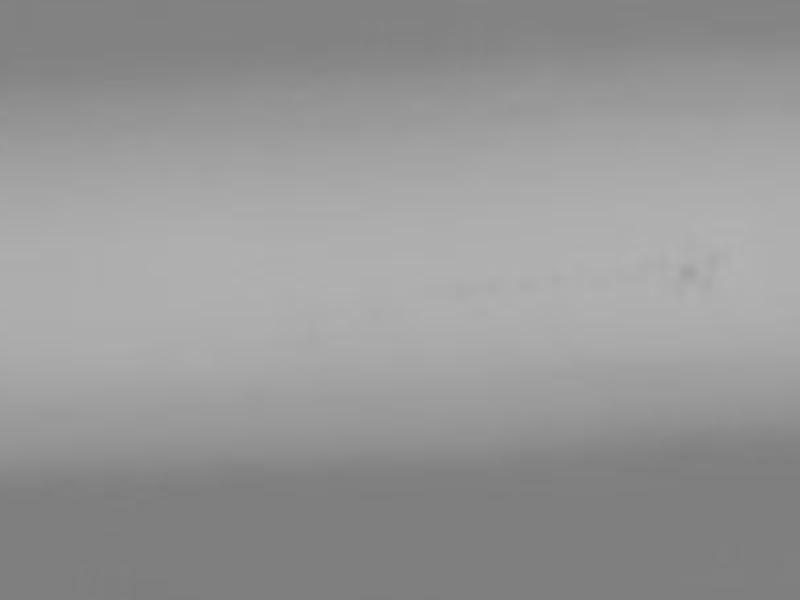defect: (698, 273, 718, 292), (517, 272, 536, 291), (680, 263, 697, 280), (704, 254, 721, 271), (483, 275, 499, 291)
